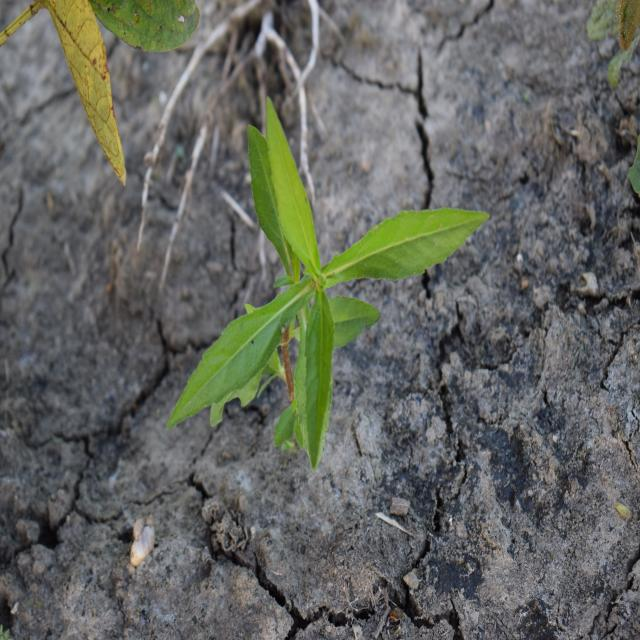Eclipta: (165, 93, 491, 473)
